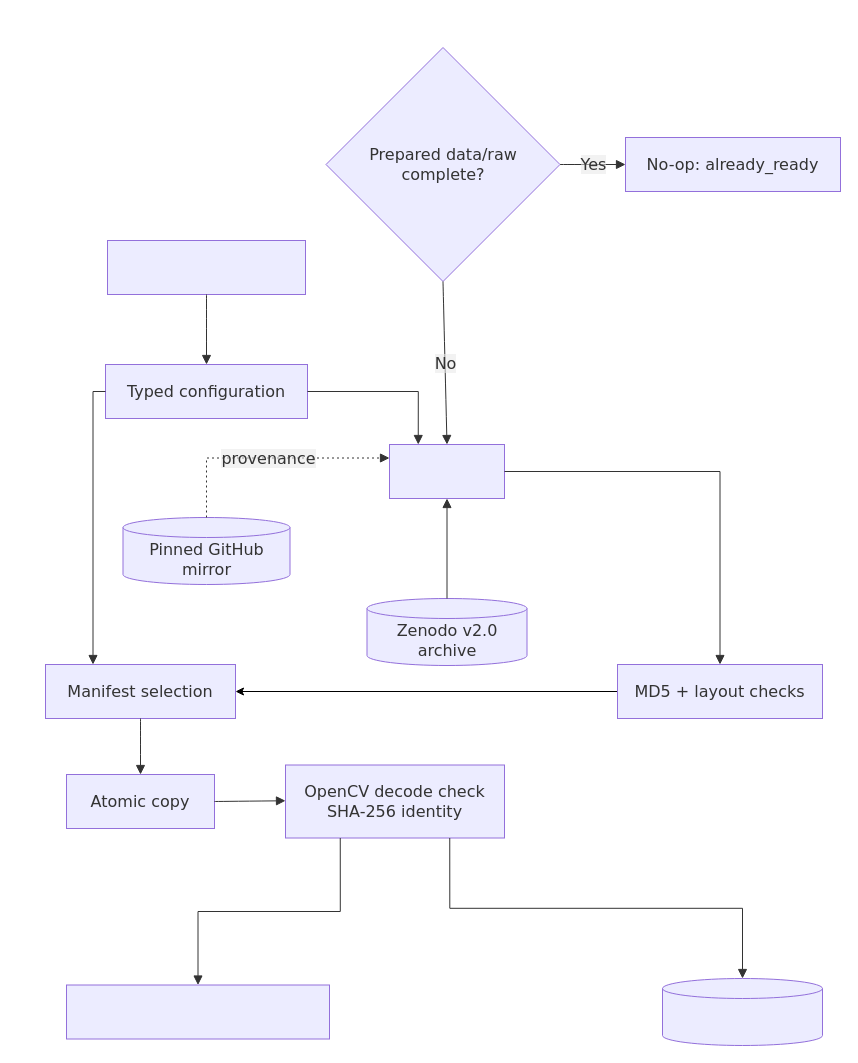
Some shapes in this 858 by 1063 pixel diagram are drawn without their labels. Each missing label, with the box of its shape:
Acquire: (388, 444, 504, 498)
config/dataset.yml: (106, 240, 306, 294)
data/raw/gmdcsa24: (662, 978, 822, 1046)
JSON report + CSV inventory: (66, 984, 330, 1039)
